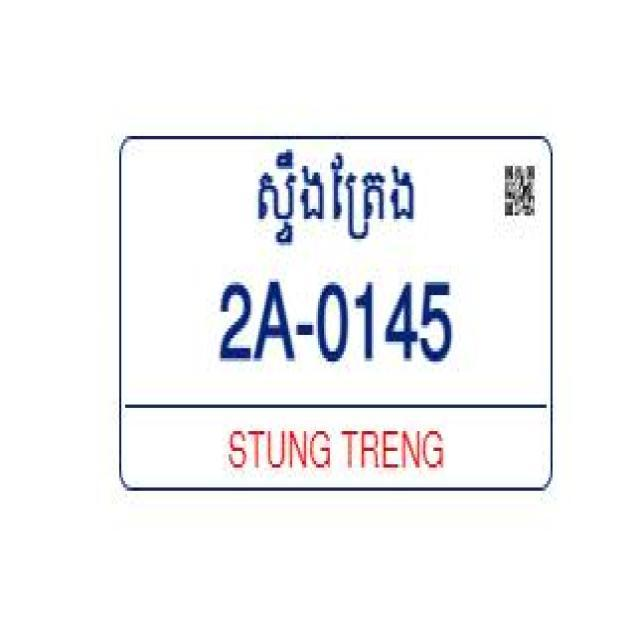Stung_Treng: (259, 143, 417, 247)
